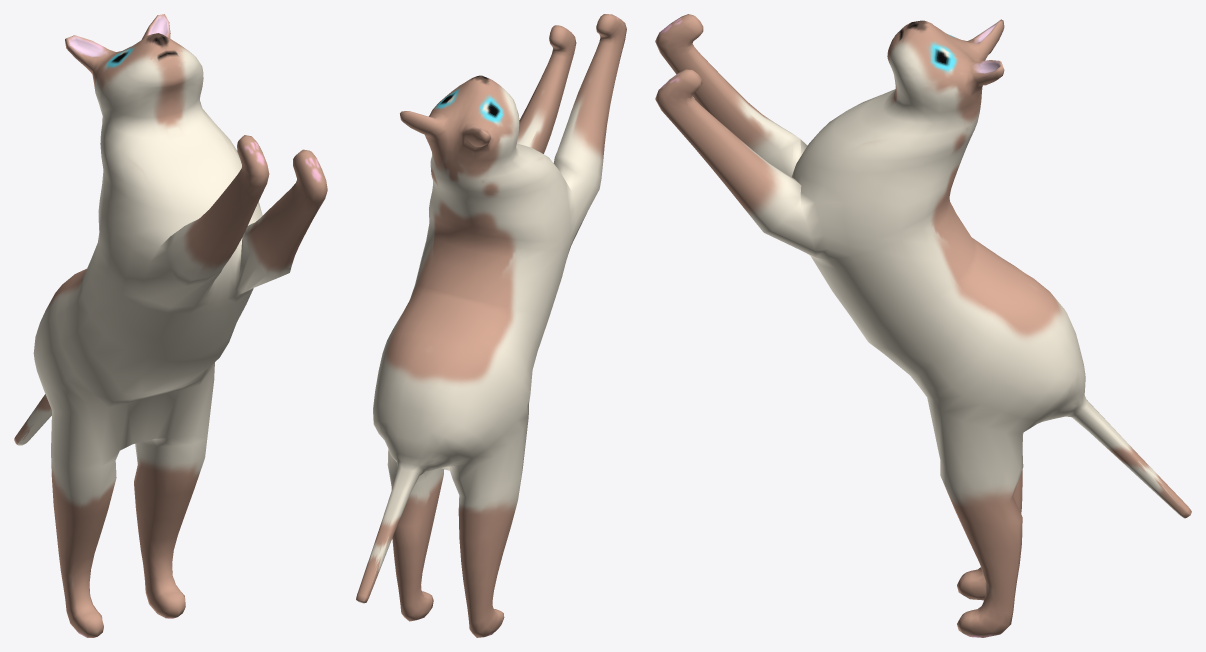
Rendered from Cat.fbx.
3 renders of one model, left to right at view 1: azimuth 30°, elevation 25°; view 2: azimuth 150°, elevation 25°; view 3: azimuth 270°, elevation 25°, orthographic. The views are drawn at different scales.
Parts seen in each view (by area): view 1: Cube.001; view 2: Cube.001; view 3: Cube.001.
Part boxes in pixels (<box>): Cube.001: <box>14,14,327,637</box>; Cube.001: <box>356,14,626,637</box>; Cube.001: <box>655,14,1191,637</box>.
Bounding box in the file's own units: 13.38 × 50.94 × 41.59.
